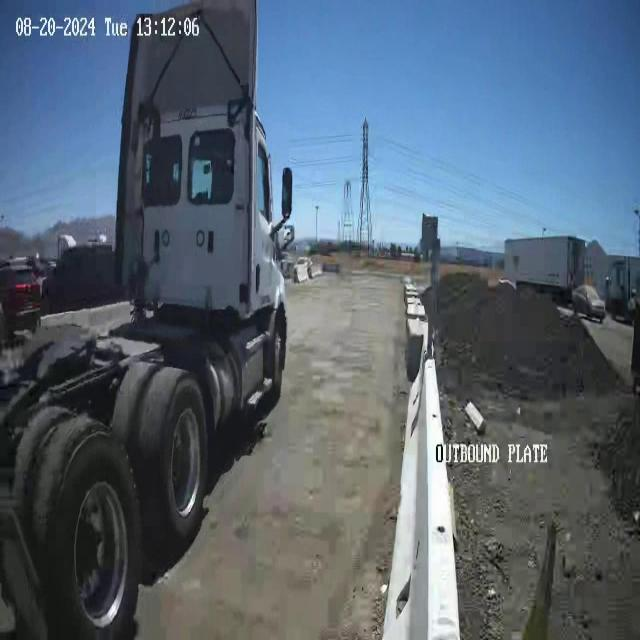BOBTAIL: (1, 1, 295, 637)
